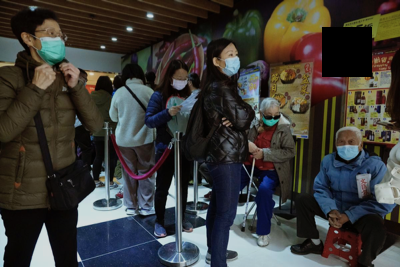with_mask: (33, 25, 66, 65), (337, 136, 361, 161), (221, 48, 241, 76), (171, 74, 189, 91), (263, 111, 282, 127)
